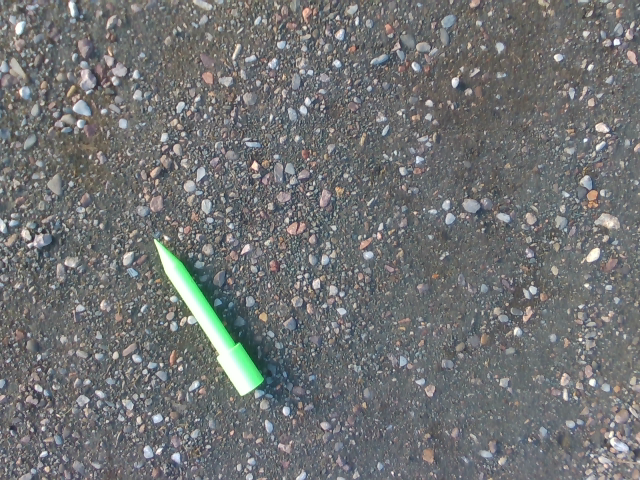Probe: (148, 230, 266, 402)
